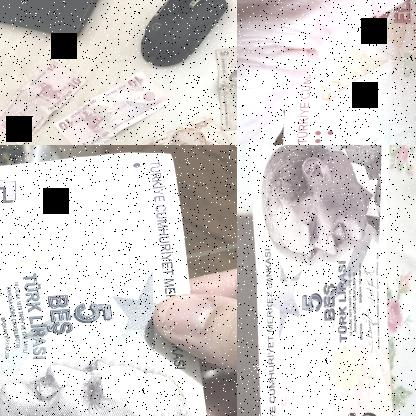5 TL: (213, 42, 236, 131)
